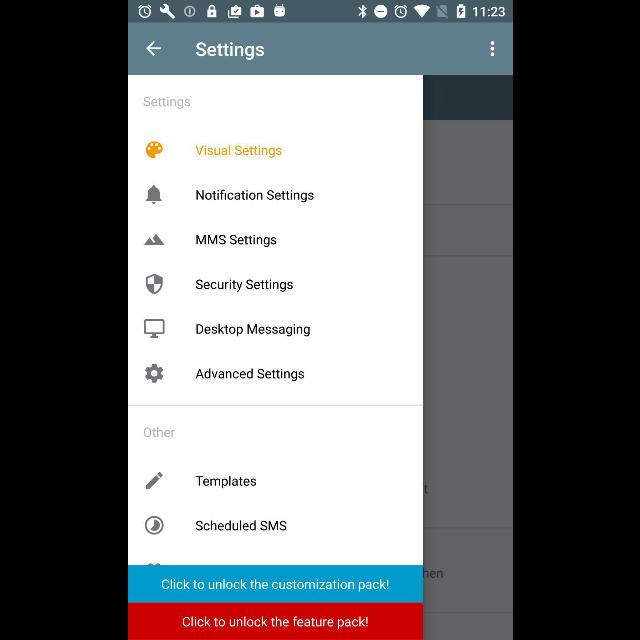icon: (144, 364, 164, 384), (144, 186, 162, 204), (146, 472, 162, 490), (145, 41, 161, 57), (490, 41, 494, 58)
image: (144, 320, 164, 338), (144, 516, 162, 534), (146, 274, 162, 294), (146, 142, 162, 158), (144, 233, 164, 245)
panel: (128, 76, 422, 640)
text: (194, 368, 304, 382), (195, 190, 313, 202), (194, 279, 292, 293), (195, 324, 309, 336), (194, 41, 264, 60), (195, 144, 281, 158), (196, 235, 276, 248), (194, 520, 286, 530), (194, 476, 256, 488), (143, 96, 190, 110), (143, 427, 175, 438)
textbutton: (128, 602, 422, 640), (128, 566, 422, 602)
toolbar: (128, 23, 512, 75)
uppertaskbar: (128, 1, 512, 23)
